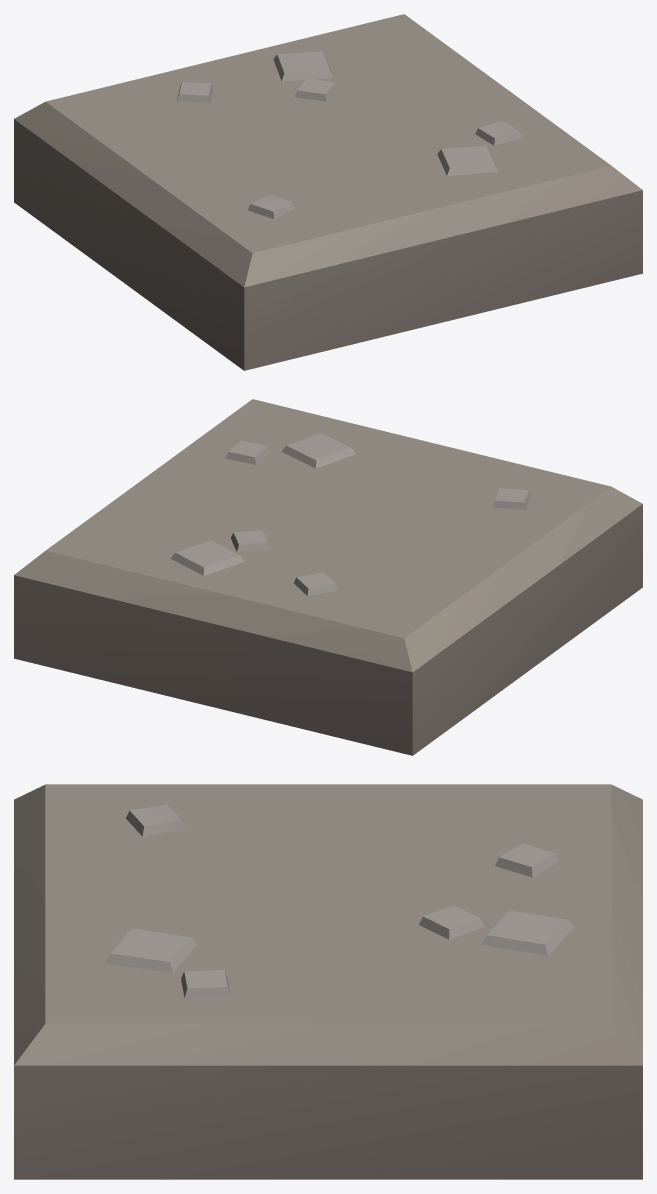
The model's file is kaykit-halloween-bits-floor-dirt-small.glb.
The picture shows the model from 3 angles, top to bottom: view 1: azimuth 30°, elevation 25°; view 2: azimuth 150°, elevation 25°; view 3: azimuth 270°, elevation 25°; orthographic projection. The views are drawn at different scales.
Visible parts, largest first — view 1: floor_dirt_small; view 2: floor_dirt_small; view 3: floor_dirt_small.
Boxes of the visible parts, left/top/right/bottom form: floor_dirt_small: left=14, top=14, right=642, bottom=370; floor_dirt_small: left=14, top=399, right=642, bottom=755; floor_dirt_small: left=14, top=784, right=642, bottom=1179.
Bounding box in the file's own units: 2 × 0.5301 × 2.
1 material, 1 textured.
